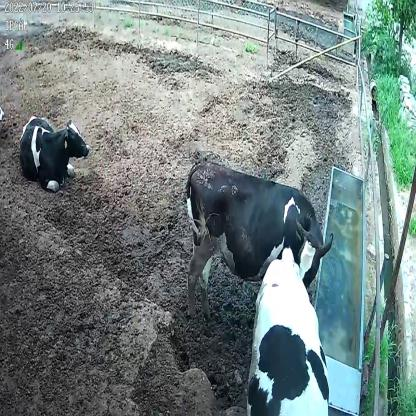cow: (181, 154, 335, 324), (17, 111, 91, 196)
